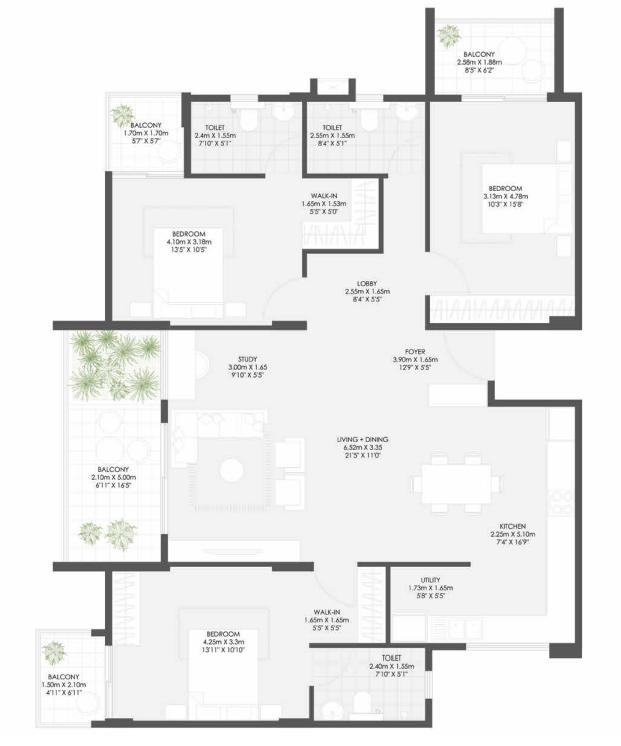Balcony: (57, 328, 165, 568), (431, 21, 560, 99), (37, 632, 108, 727), (108, 95, 187, 176)
Bed: (187, 625, 262, 722), (157, 222, 222, 317), (479, 165, 574, 227)
Bedroom: (430, 100, 577, 323), (111, 568, 309, 724), (110, 176, 304, 325)
Dining Room: (385, 404, 519, 563)
Dining table: (399, 440, 510, 516)
Foyer: (307, 328, 491, 401)
Kitchen: (480, 407, 577, 648)
Living Room: (165, 402, 383, 560)
Sofa: (164, 407, 266, 441), (165, 402, 204, 462), (275, 442, 305, 508), (219, 455, 242, 482)
Wardrobe: (429, 294, 579, 325), (105, 571, 144, 645), (354, 564, 388, 641), (351, 179, 382, 248), (305, 222, 377, 248)
commode: (361, 108, 377, 131), (240, 111, 258, 131), (355, 693, 372, 714)
door: (446, 330, 491, 382), (262, 275, 305, 319), (313, 567, 354, 609), (429, 253, 470, 294), (262, 135, 302, 175), (387, 136, 425, 174)
fridge: (544, 406, 576, 442)
kitchen-slab: (544, 446, 576, 646), (427, 611, 579, 649)
lobby: (306, 255, 430, 325), (385, 175, 426, 253)
sink: (432, 620, 482, 642), (271, 104, 295, 122), (323, 701, 342, 721), (397, 104, 417, 121)
stove: (545, 490, 576, 516)
study: (165, 330, 307, 402)
toilet: (312, 647, 428, 725), (306, 100, 428, 174), (189, 100, 304, 173)
tv: (167, 540, 304, 563)
utility: (389, 567, 474, 646)
walkin: (311, 567, 388, 645), (302, 176, 380, 250)
washing-machine: (392, 612, 426, 643)
